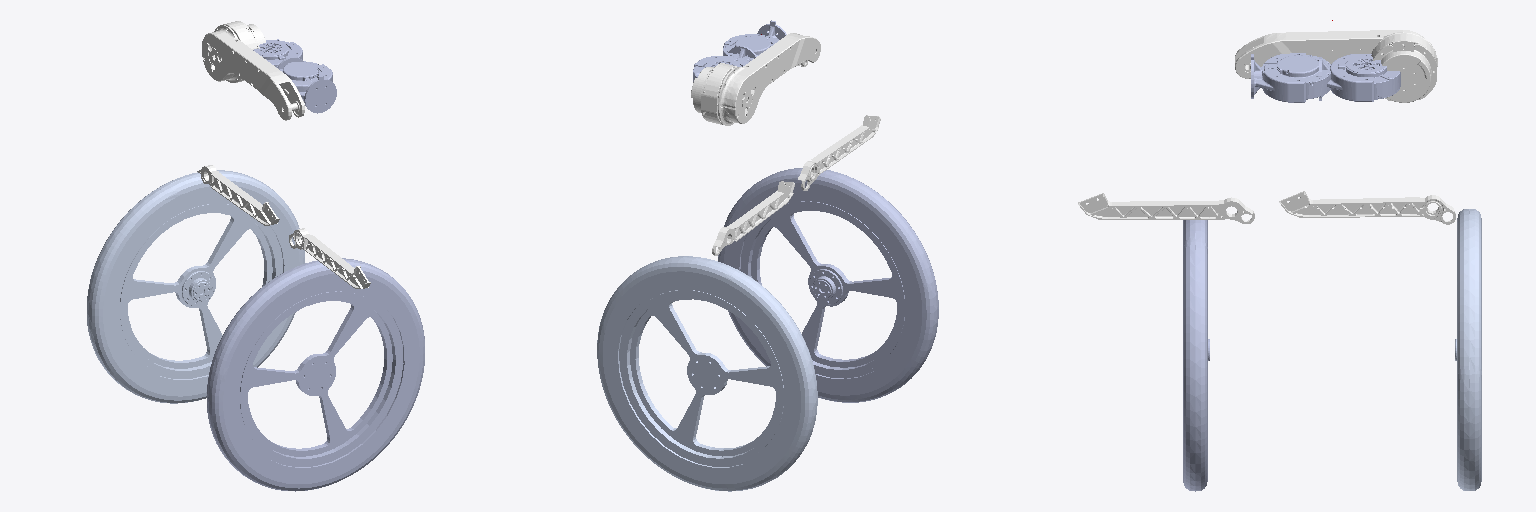
The robot description file, URDF, robot "duoBw":
<?xml version="1.0" ?>
<!-- This URDF was automatically created by SolidWorks to URDF Exporter! Originally created by Stephen Brawner (brawner@gmail.com) 
     Commit Version: 1.6.0-4-g7f85cfe  Build Version: 1.6.7995.38578
     For more information, please see http://wiki.ros.org/sw_urdf_exporter -->

<robot name="duoBw">

  <material name="black">
    <color rgba="0.0 0.0 0.0 1.0"/>
  </material>
  <material name="blue">
    <color rgba="0.0 0.0 0.8 1.0"/>
  </material>
  <material name="green">
    <color rgba="0.0 0.8 0.0 1.0"/>
  </material>
  <material name="grey">
    <color rgba="0.2 0.2 0.2 1.0"/>
  </material>
  <material name="silver">
    <color rgba="0.9137254901960784 0.9137254901960784 0.8470588235294118 1.0"/>
  </material>
  <material name="orange">
    <color rgba="1.0 0.4235294117647059 0.0392156862745098 1.0"/>
  </material>
  <material name="brown">
    <color rgba="0.8705882352941177 0.8117647058823529 0.7647058823529411 1.0"/>
  </material>
  <material name="red">
    <color rgba="0.8 0.0 0.0 1.0"/>
  </material>
  <material name="white">
    <color rgba="1.0 1.0 1.0 1.0"/>
  </material>

  <link name="base_link">
    <inertial>
      <origin xyz="0 0 0" rpy="0 0 0" />
      <mass value="0.0001" />
      <inertia ixx="0.0001" ixy="0" ixz="0" iyy="0.0001" iyz="0" izz="0.0001" />
    </inertial>
    <visual>
      <origin xyz="0 0 0" rpy="0 0 0" />
      <geometry>
        <box size="0.001 0.001 0.001"/>
      </geometry>
    </visual>
  </link>

  <link name="imu_link">
    <inertial>
      <origin xyz="0.0188 0 0.0095" rpy="0 0 0" />
      <mass value="0.123" />
      <inertia ixx="0.0001" ixy="0" ixz="0" iyy="0.0001" iyz="0" izz="0.0001" />
    </inertial>
    <visual>
      <origin rpy="0 0 0" xyz="0 0 0"/>
      <geometry>
        <box size="0.001 0.001 0.001"/>
      </geometry>
      <material name="red"/>
    </visual>
    <collision>
      <origin rpy="0 0 0" xyz="0 0 0"/>
      <geometry>
        <box size=".001 .001 .001"/>
      </geometry>
    </collision>
  </link>

  <joint name="imu_joint" type="fixed">
    <origin xyz="0.01153 0 0.068" rpy="0 0 0" />
    <parent link="base_link" />
    <child link="imu_link" />
    <axis xyz="0 0 0" />
  </joint>

  <link name="F_base_link">
    <inertial>
      <origin
        xyz="-0.0031 -0.0 0.0198"
        rpy="0 0 0" />
      <mass
        value="6.0608" />
      <inertia
        ixx="0.028"
        ixy="-0.0006"
        ixz="0.0013"
        iyy="0.0805"
        iyz="0.0001"
        izz="0.0866" />
    </inertial>
    <visual>
      <origin
        xyz="0 0 0"
        rpy="0 0 0" />
      <geometry>
        <mesh filename="../meshes/F_base_link.STL" />
      </geometry>
      <material name="grey"/>
    </visual>
    <collision>
      <origin rpy="0 0 0" xyz="0 0 0.022"/>
      <geometry>
        <box size="0.3505 0.198 0.152"/>
      </geometry>
    </collision>
  </link>

  <joint name="F_base_joint" type="fixed">
    <origin xyz="0 0 0" rpy="0 0 0" />
    <parent link="base_link" />
    <child link="F_base_link" />
    <axis xyz="0 0 0" />
  </joint>

  <link name="FL_hip">
    <inertial>
      <origin
        xyz="0.0315 0 -0.0546"
        rpy="0 0 0" />
      <mass
        value="0.755" />
      <inertia
        ixx="0.0009"
        ixy="0"
        ixz="0"
        iyy="0.0008"
        iyz="0"
        izz="0.0006" />
    </inertial>
    <visual>
      <origin
        xyz="0 0 0"
        rpy="0 0 0" />
      <geometry>
        <mesh
          filename="../meshes/FL_hip.STL" />
      </geometry>
      <material
        name="">
        <color
          rgba="0.79216 0.81961 0.93333 1" />
      </material>
    </visual>
  </link>

  <joint name="FL_hip_joint" type="revolute">
    <origin xyz="0.05525 0.048 0" rpy="1.5708 0 1.5708" />
    <parent link="F_base_link" />
    <child link="FL_hip" />
    <axis xyz="0 0 1" />
    <limit
      lower="-0.61"
      upper="0.36"
      effort="31"
      velocity="21" />
  </joint>

  <link name="FL_thigh">
    <inertial>
      <origin
        xyz="0.1906 0.0002 0.021"
        rpy="0 0 0" />
      <mass
        value="0.9375" />
      <inertia
        ixx="0.0007"
        ixy="0"
        ixz="0"
        iyy="0.0063"
        iyz="0"
        izz="0.0066" />
    </inertial>
    <visual>
      <origin
        xyz="0 0 0"
        rpy="0 0 0" />
      <geometry>
        <mesh
          filename="../meshes/FL_thigh.STL" />
      </geometry>
      <material
        name="">
        <color
          rgba="1 1 1 1" />
      </material>
    </visual>
    <!-- <collision>
      <origin rpy="0 0 0" xyz="0.08 0 0.026"/>
      <geometry>
        <box size="0.236 0.070 0.020"/>
      </geometry>
    </collision> -->
    <collision>
      <origin rpy="0 0 0" xyz="0.12 0 0.026"/>
      <geometry>
        <box size="0.16 0.070 0.020"/>
      </geometry>
    </collision>
    <collision>
      <origin rpy="0 0 0" xyz="0.23 0 0.0175"/>
      <geometry>
        <cylinder length="0.051" radius="0.047"/>
      </geometry>
    </collision>
  </link>

  <joint name="FL_thigh_joint" type="revolute">
    <origin xyz="0.0525 0 -0.05525" rpy="-1.5708 0 -1.5708" />
    <parent link="FL_hip" />
    <child link="FL_thigh" />
    <axis xyz="0 0 1" />
    <limit
      lower="-3.14"
      upper="3.14"
      effort="31"
      velocity="21" />
  </joint>

  <link name="FL_calf">
    <inertial>
      <origin
        xyz="0.1793 0 0.0108"
        rpy="0 0 0" />
      <mass
        value="0.6055" />
      <inertia
        ixx="0.0003"
        ixy="0"
        ixz="0.0001"
        iyy="0.0038"
        iyz="0"
        izz="0.0039" />
    </inertial>
    <visual>
      <origin
        xyz="0 0 0"
        rpy="0 0 0" />
      <geometry>
        <mesh
          filename="../meshes/FL_calf.STL" />
      </geometry>
      <material
        name="">
        <color
          rgba="1 1 1 1" />
      </material>
    </visual>
    <collision>
      <origin rpy="0 0 0" xyz="0.075 0 0.015"/>
      <geometry>
        <box size="0.218 0.060 0.015"/>
      </geometry>
    </collision>
    <collision>
      <origin rpy="0 0 0" xyz="0.218 0 0.0095"/>
      <geometry>
        <cylinder length="0.0435" radius="0.042"/>
      </geometry>
    </collision>
  </link>

  <joint name="FL_calf_joint" type="revolute">
    <origin xyz="0.23 0 0.0415" rpy="0 0 0" />
    <parent link="FL_thigh" />
    <child link="FL_calf" />
    <axis xyz="0 0 1" />
    <limit
      lower="-2.79"
      upper="2.79"
      effort="31"
      velocity="21" />
  </joint>

  <link name="FL_foot">
    <inertial>
      <origin
        xyz="0 0 0.0227"
        rpy="0 0 0" />
      <mass
        value="1.112" />
      <inertia
        ixx="0.0112994"
        ixy="0"
        ixz="0"
        iyy="0.0112994"
        iyz="0"
        izz="0.02224" />
    </inertial>
    <visual>
      <origin
        xyz="0 0 0"
        rpy="0 0 0" />
      <geometry>
        <mesh
          filename="../meshes/FL_foot.STL" />
      </geometry>
      <material
        name="">
        <color
          rgba="0.86667 0.9098 1 1" />
      </material>
    </visual>
    <collision>
      <origin rpy="0 0 0" xyz="0 0 0.0235"/>
      <geometry>
        <!-- <cylinder length="0.035" radius="0.1"/> -->
        <cylinder length="0.02" radius="0.2"/>
      </geometry>
    </collision>
  </link>

  <joint name="FL_foot_joint" type="revolute">
    <origin xyz="0.22 0 0.0315" rpy="0 0 0" />
    <parent link="FL_calf" />
    <child link="FL_foot" />
    <axis xyz="0 0 1" />
    <limit
      lower="-1000000.0"
      upper="1000000.0"
      effort="17"
      velocity="21" />
  </joint>

  <transmission name="FL_hip_tran">
    <type>transmission_interface/SimpleTransmission</type>
    <joint name="FL_hip_joint">
      <hardwareInterface>hardware_interface/EffortJointInterface</hardwareInterface>
    </joint>
    <actuator name="FL_hip_motor">
      <hardwareInterface>hardware_interface/EffortJointInterface</hardwareInterface>
      <mechanicalReduction>1</mechanicalReduction>
    </actuator>
  </transmission>
  <transmission name="FL_thigh_tran">
    <type>transmission_interface/SimpleTransmission</type>
    <joint name="FL_thigh_joint">
      <hardwareInterface>hardware_interface/EffortJointInterface</hardwareInterface>
    </joint>
    <actuator name="FL_thigh_motor">
      <hardwareInterface>hardware_interface/EffortJointInterface</hardwareInterface>
      <mechanicalReduction>1</mechanicalReduction>
    </actuator>
  </transmission>
  <transmission name="FL_calf_tran">
    <type>transmission_interface/SimpleTransmission</type>
    <joint name="FL_calf_joint">
      <hardwareInterface>hardware_interface/EffortJointInterface</hardwareInterface>
    </joint>
    <actuator name="FL_calf_motor">
      <hardwareInterface>hardware_interface/EffortJointInterface</hardwareInterface>
      <mechanicalReduction>1</mechanicalReduction>
    </actuator>
  </transmission>
  <transmission name="FL_foot_tran">
    <type>transmission_interface/SimpleTransmission</type>
    <joint name="FL_foot_joint">
      <hardwareInterface>hardware_interface/EffortJointInterface</hardwareInterface>
    </joint>
    <actuator name="FL_foot_motor">
      <hardwareInterface>hardware_interface/EffortJointInterface</hardwareInterface>
      <mechanicalReduction>1</mechanicalReduction>
    </actuator>
  </transmission>

  <link name="FR_hip">
    <inertial>
      <origin
        xyz="-0.0315 0 -0.0546"
        rpy="0 0 0" />
      <mass
        value="0.755" />
      <inertia
        ixx="0.0009"
        ixy="0"
        ixz="0"
        iyy="0.0008"
        iyz="0"
        izz="0.0006" />
    </inertial>
    <visual>
      <origin
        xyz="0 0 0"
        rpy="0 0 0" />
      <geometry>
        <mesh
          filename="../meshes/FR_hip.STL" />
      </geometry>
      <material
        name="">
        <color
          rgba="0.79216 0.81961 0.93333 1" />
      </material>
    </visual>
  </link>

  <joint name="FR_hip_joint" type="revolute">
    <origin xyz="0.05525 -0.048 0" rpy="1.5708 0 1.5708" />
    <parent link="F_base_link" />
    <child link="FR_hip" />
    <axis xyz="0 0 1" />
    <limit
      lower="-0.36"
      upper="0.61"
      effort="31"
      velocity="21" />
  </joint>

  <link name="FR_thigh">
    <inertial>
      <origin
        xyz="0.1906 0.0001 -0.021"
        rpy="0 0 0" />
      <mass
        value="0.9375" />
      <inertia
        ixx="0.0007"
        ixy="0"
        ixz="0"
        iyy="0.0063"
        iyz="0"
        izz="0.0066" />
    </inertial>
    <visual>
      <origin
        xyz="0 0 0"
        rpy="0 0 0" />
      <geometry>
        <mesh
          filename="../meshes/FR_thigh.STL" />
      </geometry>
      <material
        name="">
        <color
          rgba="0.86667 0.9098 1 1" />
      </material>
    </visual>
    <!-- <collision>
      <origin rpy="0 0 0" xyz="0.08 0 -0.026"/>
      <geometry>
        <box size="0.236 0.070 0.020"/>
      </geometry>
    </collision> -->
    <collision>
      <origin rpy="0 0 0" xyz="0.12 0 -0.026"/>
      <geometry>
        <box size="0.16 0.070 0.020"/>
      </geometry>
    </collision>
    <collision>
      <origin rpy="0 0 0" xyz="0.23 0 -0.0175"/>
      <geometry>
        <cylinder length="0.051" radius="0.047"/>
      </geometry>
    </collision>
  </link>

  <joint name="FR_thigh_joint" type="revolute">
    <origin xyz="-0.0525 0 -0.05525" rpy="-1.5708 0 -1.5708" />
    <parent link="FR_hip" />
    <child link="FR_thigh" />
    <axis xyz="0 0 1" />
    <limit
      lower="-3.14"
      upper="3.14"
      effort="31"
      velocity="21" />
  </joint>

  <link name="FR_calf">
    <inertial>
      <origin
        xyz="0.1793 0 -0.0108"
        rpy="0 0 0" />
      <mass
        value="0.6055" />
      <inertia
        ixx="0.0003"
        ixy="0"
        ixz="-0.0001"
        iyy="0.0038"
        iyz="0"
        izz="0.0039" />
    </inertial>
    <visual>
      <origin
        xyz="0 0 0"
        rpy="0 0 0" />
      <geometry>
        <mesh
          filename="../meshes/FR_calf.STL" />
      </geometry>
      <material
        name="">
        <color
          rgba="1 1 1 1" />
      </material>
    </visual>
    <collision>
      <origin rpy="0 0 0" xyz="0.075 0 -0.015"/>
      <geometry>
        <box size="0.218 0.060 0.015"/>
      </geometry>
    </collision>
    <collision>
      <origin rpy="0 0 0" xyz="0.218 0 -0.0095"/>
      <geometry>
        <cylinder length="0.0435" radius="0.042"/>
      </geometry>
    </collision>
  </link>

  <joint name="FR_calf_joint" type="revolute">
    <origin xyz="0.23 0 -0.0415" rpy="0 0 0" />
    <parent link="FR_thigh" />
    <child link="FR_calf" />
    <axis xyz="0 0 1" />
    <limit
      lower="-2.79"
      upper="2.79"
      effort="31"
      velocity="21" />
  </joint>

  <link name="FR_foot">
    <inertial>
      <origin
        xyz="0 0 -0.0227"
        rpy="0 0 0" />
      <mass
        value="1.112" />
      <inertia
        ixx="0.0112994"
        ixy="0"
        ixz="0"
        iyy="0.0112994"
        iyz="0"
        izz="0.02224" />
    </inertial>
    <visual>
      <origin
        xyz="0 0 0"
        rpy="0 0 0" />
      <geometry>
        <mesh
          filename="../meshes/FR_foot.STL" />
      </geometry>
      <material
        name="">
        <color
          rgba="0.79216 0.81961 0.93333 1" />
      </material>
    </visual>
    <collision>
      <origin rpy="0 0 0" xyz="0 0 -0.0235"/>
      <geometry>
        <!-- <cylinder length="0.035" radius="0.1"/> -->
        <cylinder length="0.02" radius="0.2"/>
      </geometry>
    </collision>
  </link>

  <joint name="FR_foot_joint" type="revolute">
    <origin xyz="0.22 0 -0.0315" rpy="0 0 0" />
    <parent link="FR_calf" />
    <child link="FR_foot" />
    <axis xyz="0 0 1" />
    <limit 
      lower="-1000000.0"
      upper="1000000.0"
      effort="17"
      velocity="21" />
  </joint>

  <transmission name="FR_hip_tran">
    <type>transmission_interface/SimpleTransmission</type>
    <joint name="FR_hip_joint">
      <hardwareInterface>hardware_interface/EffortJointInterface</hardwareInterface>
    </joint>
    <actuator name="FR_hip_motor">
      <hardwareInterface>hardware_interface/EffortJointInterface</hardwareInterface>
      <mechanicalReduction>1</mechanicalReduction>
    </actuator>
  </transmission>
  <transmission name="FR_thigh_tran">
    <type>transmission_interface/SimpleTransmission</type>
    <joint name="FR_thigh_joint">
      <hardwareInterface>hardware_interface/EffortJointInterface</hardwareInterface>
    </joint>
    <actuator name="FR_thigh_motor">
      <hardwareInterface>hardware_interface/EffortJointInterface</hardwareInterface>
      <mechanicalReduction>1</mechanicalReduction>
    </actuator>
  </transmission>
  <transmission name="FR_calf_tran">
    <type>transmission_interface/SimpleTransmission</type>
    <joint name="FR_calf_joint">
      <hardwareInterface>hardware_interface/EffortJointInterface</hardwareInterface>
    </joint>
    <actuator name="FR_calf_motor">
      <hardwareInterface>hardware_interface/EffortJointInterface</hardwareInterface>
      <mechanicalReduction>1</mechanicalReduction>
    </actuator>
  </transmission>
  <transmission name="FR_foot_tran">
    <type>transmission_interface/SimpleTransmission</type>
    <joint name="FR_foot_joint">
      <hardwareInterface>hardware_interface/EffortJointInterface</hardwareInterface>
    </joint>
    <actuator name="FR_foot_motor">
      <hardwareInterface>hardware_interface/EffortJointInterface</hardwareInterface>
      <mechanicalReduction>1</mechanicalReduction>
    </actuator>
  </transmission>

</robot>

--- Facts derived from the render (not from the file) ---
The picture shows the robot from 3 angles, left to right: view 1: azimuth 30°, elevation 25°; view 2: azimuth 150°, elevation 25°; view 3: azimuth 270°, elevation 25°; orthographic projection.
Model duoBw with 11 links and 10 joints (8 revolute, 2 fixed), rooted at base_link, posed all joints at 0.
Links seen in each view (by area): view 1: FR_foot, FL_foot, FL_thigh, FR_hip, FR_calf, FL_calf, FL_hip; view 2: FL_foot, FR_foot, FL_thigh, FR_calf, FL_calf, FR_hip, FL_hip; view 3: FL_foot, FR_foot, FL_thigh, FL_calf, FR_calf, FR_hip, FL_hip.
Link boxes in pixels (x1,y1,x2,y2): FR_foot: (207,258,424,491); FL_foot: (87,170,304,403); FL_thigh: (202,21,304,120); FR_hip: (276,61,336,113); FR_calf: (289,228,370,288); FL_calf: (197,165,279,225); FL_hip: (253,39,303,69); FL_foot: (597,256,817,491); FR_foot: (718,168,938,402); FL_thigh: (691,33,820,125); FR_calf: (798,115,880,190); FL_calf: (712,181,794,255); FR_hip: (723,20,786,61); FL_hip: (693,46,756,81); FL_foot: (1455,209,1481,490); FR_foot: (1183,220,1209,491); FL_thigh: (1235,30,1437,102); FL_calf: (1279,191,1455,224); FR_calf: (1078,193,1254,223); FR_hip: (1251,53,1330,102); FL_hip: (1319,54,1400,101).
Bounding box of the posed robot: 0.4 × 0.5703 × 0.7185 m (x, y, z).
7 mesh visuals loaded from 9 distinct referenced files (7 binary STL); not drawn: 2 (reference not matched to a file when rendering).
